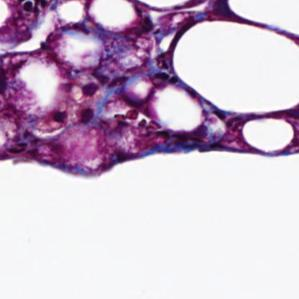inflammation: (44, 74, 106, 129)
